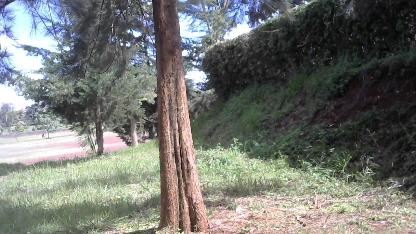tree: (26, 0, 155, 156), (149, 0, 215, 234)
